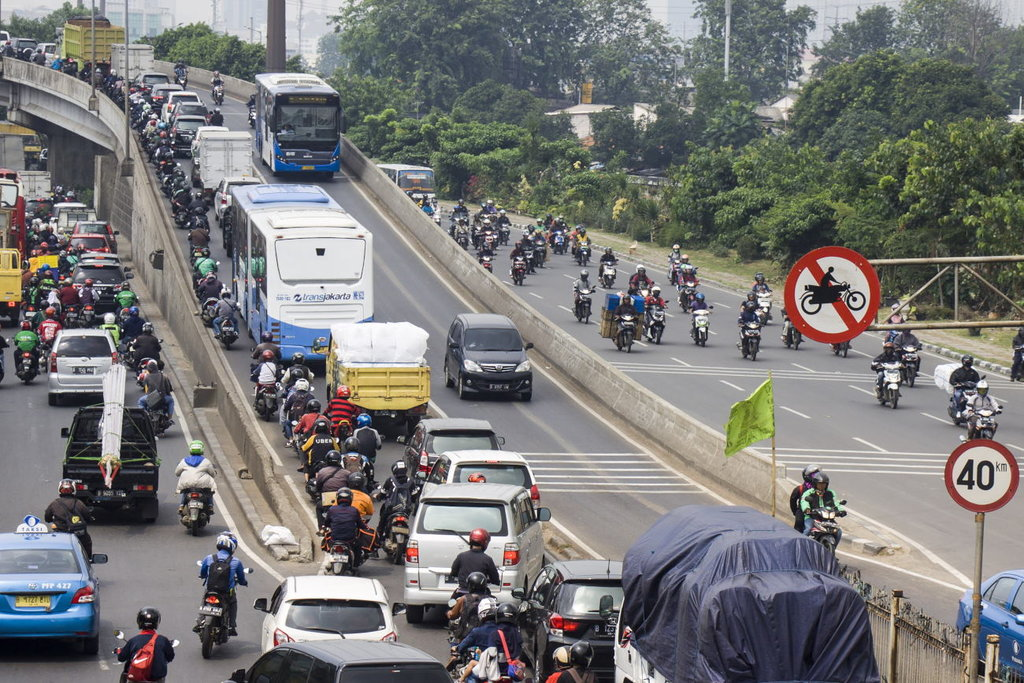car: (618, 505, 876, 683), (230, 184, 380, 360), (401, 477, 549, 628), (405, 486, 548, 630), (55, 370, 165, 521), (2, 519, 106, 666), (530, 562, 654, 675), (327, 326, 435, 444), (258, 577, 400, 662), (426, 454, 544, 547), (254, 72, 343, 182), (448, 314, 534, 406), (409, 419, 498, 501), (956, 562, 1024, 667), (48, 330, 125, 410), (55, 19, 124, 78), (199, 133, 254, 197), (377, 162, 437, 219), (68, 264, 132, 317), (214, 178, 263, 225), (1, 169, 24, 268), (113, 45, 154, 98), (18, 172, 53, 225), (1, 248, 24, 327), (74, 221, 119, 260), (167, 117, 210, 156), (57, 207, 99, 246), (133, 72, 171, 111), (161, 92, 200, 128), (150, 84, 185, 118), (171, 102, 207, 135), (30, 42, 57, 69), (25, 199, 53, 225)
motorbike: (194, 528, 246, 658), (449, 525, 499, 640), (109, 610, 182, 683), (459, 604, 526, 683), (790, 467, 839, 570), (47, 479, 95, 574), (175, 440, 218, 535), (379, 459, 415, 568), (455, 575, 493, 678), (326, 489, 365, 574), (934, 354, 979, 426), (316, 452, 354, 524), (141, 360, 174, 438), (602, 291, 643, 353), (306, 422, 338, 497), (968, 381, 998, 454), (871, 342, 903, 409), (133, 320, 161, 395), (287, 371, 313, 450), (301, 400, 333, 464), (251, 348, 279, 420), (352, 413, 382, 475), (284, 354, 313, 417), (255, 328, 283, 390), (324, 386, 354, 443), (40, 306, 67, 369), (214, 288, 240, 349), (16, 321, 41, 384), (897, 326, 921, 390), (124, 307, 148, 371), (740, 302, 763, 362), (644, 287, 666, 347), (198, 273, 221, 324), (100, 312, 123, 362), (193, 246, 216, 295), (574, 270, 594, 325), (751, 273, 771, 327), (690, 294, 710, 347), (679, 265, 699, 314), (59, 277, 78, 327), (41, 271, 60, 321), (630, 264, 651, 309), (510, 240, 528, 289), (78, 280, 97, 326), (116, 283, 136, 325), (598, 247, 617, 290), (888, 305, 904, 356), (191, 221, 209, 265), (25, 277, 40, 328), (176, 184, 192, 228), (532, 228, 549, 268), (191, 191, 206, 233), (520, 232, 534, 277), (34, 242, 55, 272), (1013, 329, 1024, 386), (162, 154, 177, 194), (210, 68, 226, 105), (679, 255, 695, 292), (481, 221, 498, 255), (478, 243, 495, 276), (575, 229, 590, 265), (669, 244, 682, 285), (23, 260, 34, 307), (551, 217, 565, 253), (534, 219, 548, 255), (174, 58, 189, 91), (450, 206, 465, 239), (497, 209, 511, 244), (58, 251, 70, 289), (455, 217, 468, 252), (559, 214, 571, 251), (544, 214, 555, 252), (473, 212, 483, 247), (248, 95, 258, 129), (211, 109, 225, 132), (481, 201, 489, 227)
